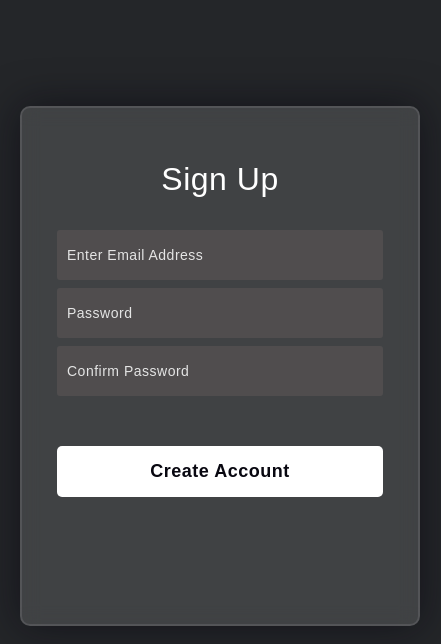
happy path test
This screenshot has width=441, height=644.
In the field with placeholder "Enter Email Address": point(220, 255) [57,230,383,280], type "test@example.com"
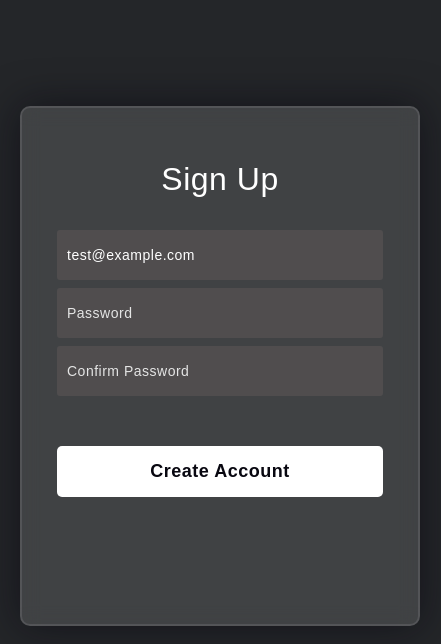
In the password field with placeholder "Password": point(220, 313) [57,288,383,338], type "Q!1"
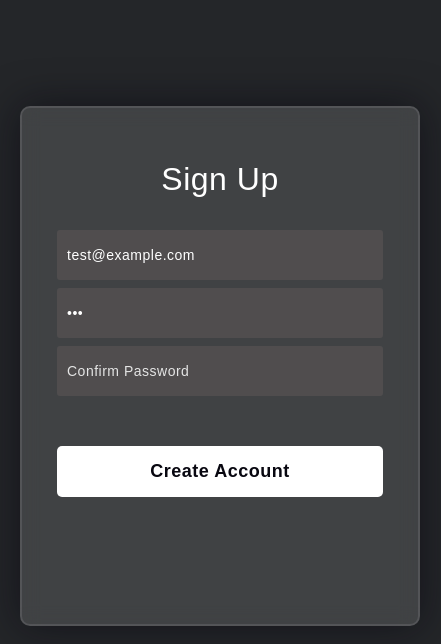
In the password field with placeholder "Confirm Password": point(220, 371) [57,346,383,396], type "Q!1"
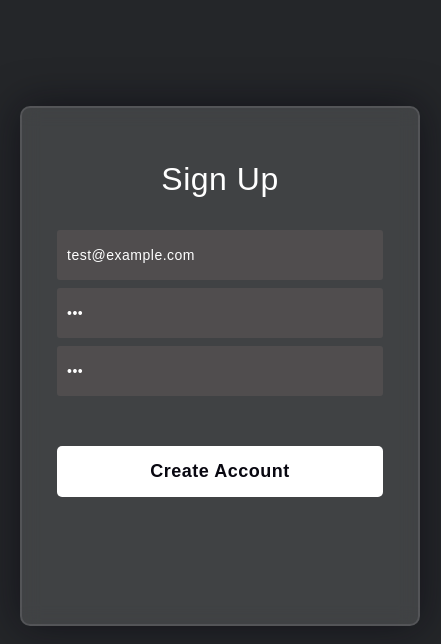
Click the button "Create Account": point(220, 472) [57,446,383,497]
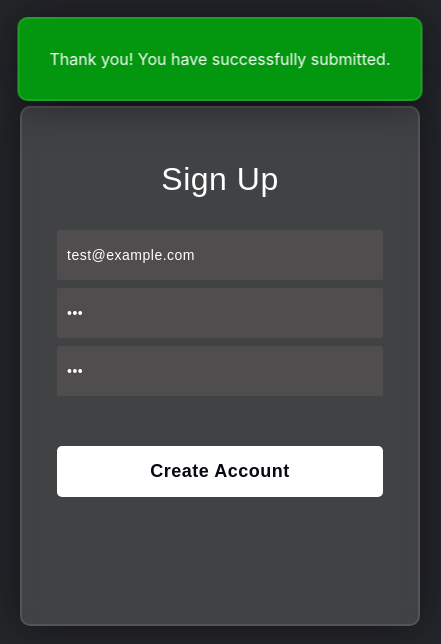
Check: the text "Thank you! You have successfully submitted." is shown, box [18,17,422,101]
